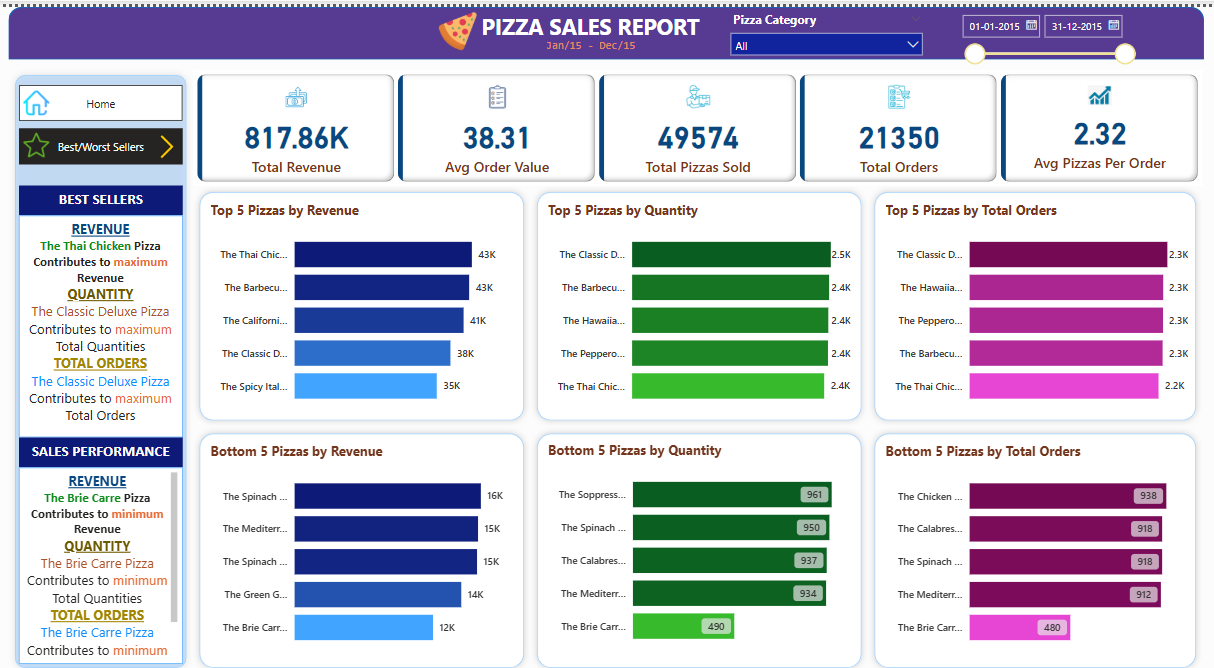

Layout of this report page (visuals, bound fields, positions):
{"tool":"powerbi","page":{"name":"Best/Worst Sellers","canvas":[1500,820],"ordinal":1},"visuals":[{"type":"shape","box":[16.6,75.6,226.8,745],"z":0},{"type":"cardVisual","fields":{"Data":["pizza_sales.Total Revenue","pizza_sales.Avg Order Value","pizza_sales.Total Pizzas Sold","pizza_sales.Total Orders","pizza_sales.Avg Pizzas Per Order"]},"box":[244.2,77.7,1241.6,142.5],"z":1000},{"type":"shape","box":[243.4,219.5,414.9,296.9],"z":2000},{"type":"shape","box":[16.6,0,1469.8,64.5],"z":3000},{"type":"textbox","box":[569.8,0,324.6,64.5],"z":4000},{"type":"textbox","box":[654.7,31.4,154.9,33.2],"z":5000},{"type":"image","box":[529.3,0,79.3,59],"z":6000},{"type":"textbox","box":[29.5,219.5,201,36.9],"z":7000},{"type":"textbox","box":[29.5,256.3,201,272.9],"z":8000},{"type":"textbox","box":[29.5,529.3,201,36.9],"z":9000},{"type":"textbox","box":[29.5,566.1,201,241.6],"z":10000},{"type":"slicer","fields":{"Values":["pizza_sales.pizza_category"]},"box":[894.4,0,256.3,64.5],"z":11000},{"type":"slicer","fields":{"Values":["pizza_sales.order_date"]},"box":[1176.5,0,234.2,75.6],"z":12000},{"type":"shape","box":[658.4,219.5,414.9,296.9],"z":13000},{"type":"shape","box":[1073.3,219.5,411.2,296.9],"z":14000},{"type":"shape","box":[243.4,516.4,414.9,304.3],"z":15000},{"type":"shape","box":[658.4,516.4,414.9,304.3],"z":16000},{"type":"shape","box":[1073.3,516.4,411.2,304.3],"z":17000},{"type":"barChart","title":"Top 5 Pizzas by Revenue","fields":{"Category":["pizza_sales.pizza_name"],"Y":["pizza_sales.Total Revenue"]},"box":[260,237.9,381.7,265.6],"z":18000},{"type":"barChart","title":"Bottom 5 Pizzas by Revenue","fields":{"Category":["pizza_sales.pizza_name"],"Y":["pizza_sales.Total Revenue"]},"box":[260,534.8,381.7,265.6],"z":19000},{"type":"barChart","title":"Top 5 Pizzas by Quantity","fields":{"Category":["pizza_sales.pizza_name"],"Y":["pizza_sales.Total Pizzas Sold"]},"box":[674.9,237.9,381.7,265.6],"z":20000},{"type":"barChart","title":"Bottom 5 Pizzas by Quantity","fields":{"Category":["pizza_sales.pizza_name"],"Y":["pizza_sales.Total Pizzas Sold"]},"box":[675.4,533.7,383.1,265.8],"z":21000},{"type":"barChart","title":"Top 5 Pizzas by Total Orders","fields":{"Category":["pizza_sales.pizza_name"],"Y":["pizza_sales.Total Orders"]},"box":[1089.9,237.9,381.7,265.6],"z":22000},{"type":"barChart","title":"Bottom 5 Pizzas by Total Orders","fields":{"Category":["pizza_sales.pizza_name"],"Y":["pizza_sales.Total Orders"]},"box":[1089.9,534.8,381.7,265.6],"z":23000},{"type":"pageNavigator","box":[29.5,95.9,201,44],"z":24000},{"type":"pageNavigator","box":[29.5,149.4,201,44.3],"z":25000},{"type":"image","box":[191.8,149.4,38.7,44.3],"z":26000},{"type":"image","box":[29.5,95.9,42.4,44.3],"z":27000},{"type":"image","box":[29.5,145.7,42.4,47.9],"z":28000}]}

Visuals, with their boxes in screenshot pixels (x1, y1, x2, y2), scaled from the page's 1500x820 canvas onto the 1214x668 screenshot:
shape: [x1=13, y1=62, x2=197, y2=667]
cardVisual - pizza_sales.Total Revenue x pizza_sales.Avg Order Value: [x1=198, y1=63, x2=1203, y2=179]
shape: [x1=197, y1=179, x2=533, y2=421]
shape: [x1=13, y1=0, x2=1203, y2=53]
textbox: [x1=461, y1=0, x2=724, y2=53]
textbox: [x1=530, y1=26, x2=655, y2=53]
image: [x1=428, y1=0, x2=493, y2=48]
textbox: [x1=24, y1=179, x2=187, y2=209]
textbox: [x1=24, y1=209, x2=187, y2=431]
textbox: [x1=24, y1=431, x2=187, y2=461]
textbox: [x1=24, y1=461, x2=187, y2=658]
slicer - pizza_sales.pizza_category: [x1=724, y1=0, x2=931, y2=53]
slicer - pizza_sales.order_date: [x1=952, y1=0, x2=1142, y2=62]
shape: [x1=533, y1=179, x2=869, y2=421]
shape: [x1=869, y1=179, x2=1201, y2=421]
shape: [x1=197, y1=421, x2=533, y2=667]
shape: [x1=533, y1=421, x2=869, y2=667]
shape: [x1=869, y1=421, x2=1201, y2=667]
"Top 5 Pizzas by Revenue" barChart: [x1=210, y1=194, x2=519, y2=410]
"Bottom 5 Pizzas by Revenue" barChart: [x1=210, y1=436, x2=519, y2=652]
"Top 5 Pizzas by Quantity" barChart: [x1=546, y1=194, x2=855, y2=410]
"Bottom 5 Pizzas by Quantity" barChart: [x1=547, y1=435, x2=857, y2=651]
"Top 5 Pizzas by Total Orders" barChart: [x1=882, y1=194, x2=1191, y2=410]
"Bottom 5 Pizzas by Total Orders" barChart: [x1=882, y1=436, x2=1191, y2=652]
pageNavigator: [x1=24, y1=78, x2=187, y2=114]
pageNavigator: [x1=24, y1=122, x2=187, y2=158]
image: [x1=155, y1=122, x2=187, y2=158]
image: [x1=24, y1=78, x2=58, y2=114]
image: [x1=24, y1=119, x2=58, y2=158]
